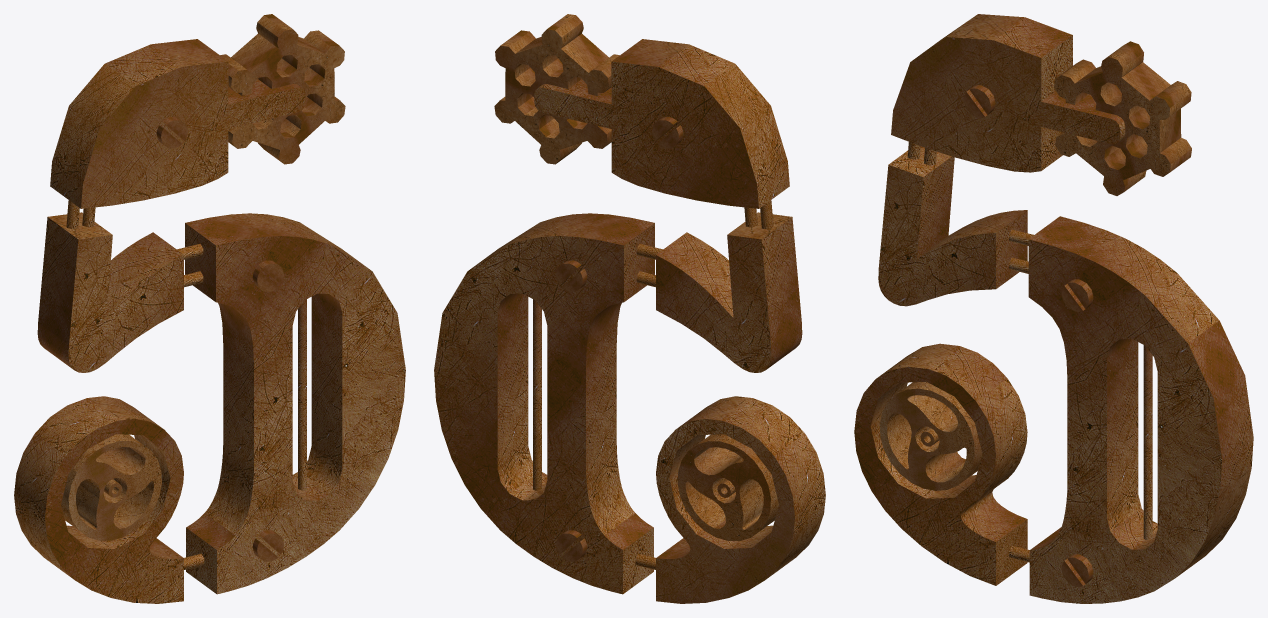
3 views of the same model, side by side, from view 1: azimuth 30°, elevation 25°; view 2: azimuth 150°, elevation 25°; view 3: azimuth 330°, elevation 25° (orthographic).
Parts seen in each view (by area): view 1: 031, C_Elements_018, Cogwheel_242, Tube_631, Screw_756, Screw_765, Screw_763; view 2: 031, C_Elements_018, Cogwheel_242, Tube_631, Screw_756, Screw_765, Screw_763; view 3: 031, C_Elements_018, Cogwheel_242, Tube_631, Screw_765, Screw_763, Screw_756.
Boxes of the visible parts, x1=… form: 031: x1=14, y1=39, x2=405, y2=603; C_Elements_018: x1=220, y1=14, x2=345, y2=164; Cogwheel_242: x1=61, y1=434, x2=161, y2=540; Tube_631: x1=298, y1=299, x2=306, y2=490; Screw_756: x1=156, y1=117, x2=187, y2=148; Screw_765: x1=252, y1=530, x2=283, y2=561; Screw_763: x1=252, y1=260, x2=283, y2=291; 031: x1=434, y1=39, x2=825, y2=603; C_Elements_018: x1=494, y1=14, x2=619, y2=164; Cogwheel_242: x1=677, y1=434, x2=778, y2=541; Tube_631: x1=533, y1=299, x2=541, y2=490; Screw_756: x1=652, y1=117, x2=683, y2=148; Screw_765: x1=556, y1=530, x2=587, y2=561; Screw_763: x1=556, y1=260, x2=587, y2=291; 031: x1=854, y1=14, x2=1253, y2=603; C_Elements_018: x1=1054, y1=41, x2=1191, y2=195; Cogwheel_242: x1=879, y1=381, x2=982, y2=490; Tube_631: x1=1143, y1=345, x2=1152, y2=539; Screw_765: x1=1061, y1=554, x2=1093, y2=586; Screw_763: x1=1061, y1=279, x2=1093, y2=311; Screw_756: x1=963, y1=85, x2=995, y2=117.
Size of the model in its own units: 67.49 by 96.93 by 12.89.
1 material, 1 textured.
